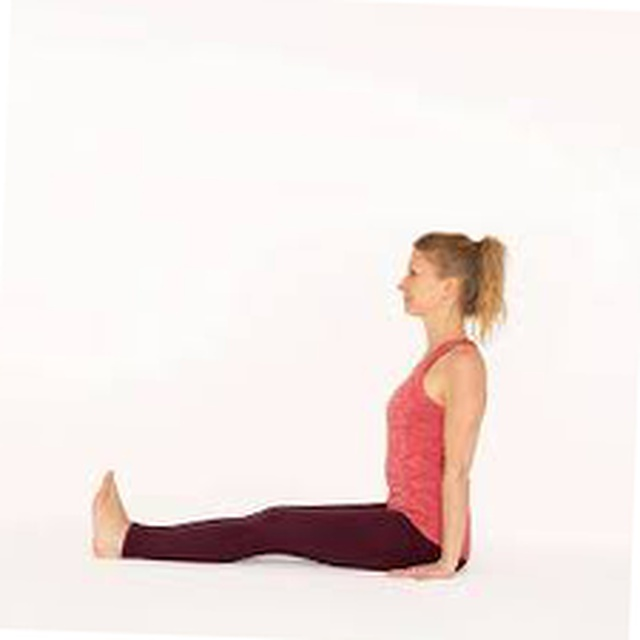Staff_Pose: (91, 232, 506, 583)
